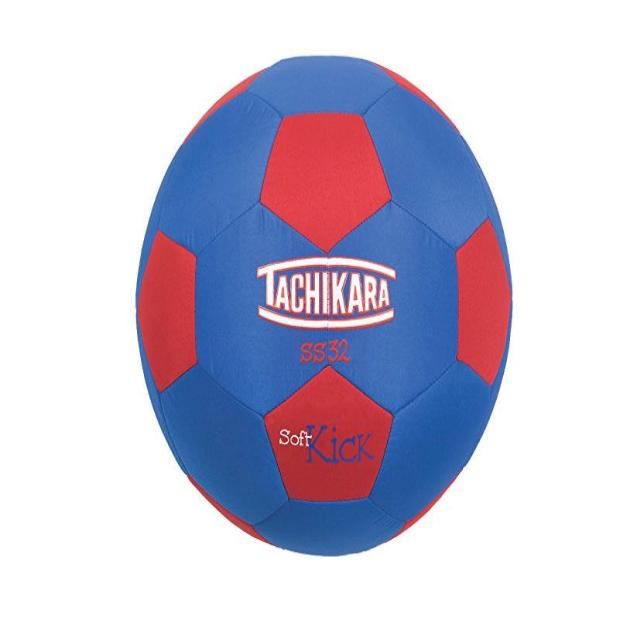soccer ball: (136, 54, 514, 556)
